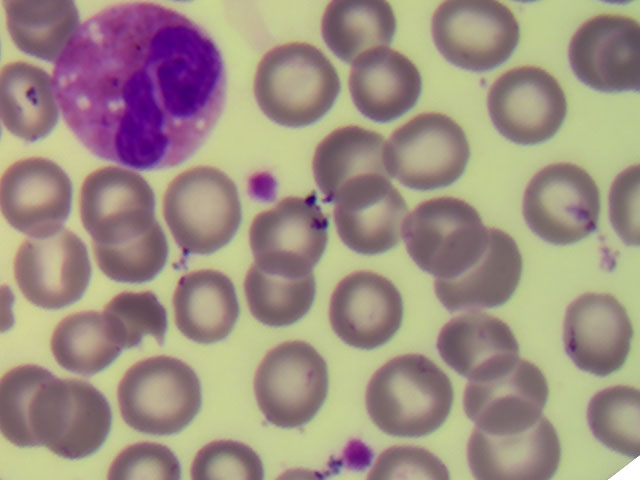Platelets: (244, 163, 285, 204), (339, 435, 374, 472)
RBC: (253, 43, 333, 124), (345, 40, 425, 121), (385, 111, 465, 192), (311, 122, 391, 203), (327, 171, 407, 252), (245, 194, 325, 275), (231, 249, 311, 330), (163, 263, 243, 344), (160, 170, 240, 251), (73, 160, 153, 241), (89, 207, 169, 288), (10, 228, 90, 309), (1, 154, 80, 235), (481, 65, 559, 140), (523, 163, 601, 238), (406, 196, 484, 271), (442, 230, 520, 305), (328, 268, 406, 343), (250, 343, 328, 418), (125, 357, 203, 432), (114, 284, 192, 359), (57, 307, 135, 382), (44, 379, 122, 454), (368, 358, 446, 433), (437, 303, 515, 378), (465, 355, 543, 430), (469, 405, 547, 480), (562, 292, 640, 367), (562, 16, 640, 91), (1, 367, 78, 442), (436, 1, 514, 75), (585, 377, 640, 464), (1, 61, 60, 142), (9, 1, 73, 57), (329, 1, 393, 57)
WBC: (57, 1, 233, 164)
